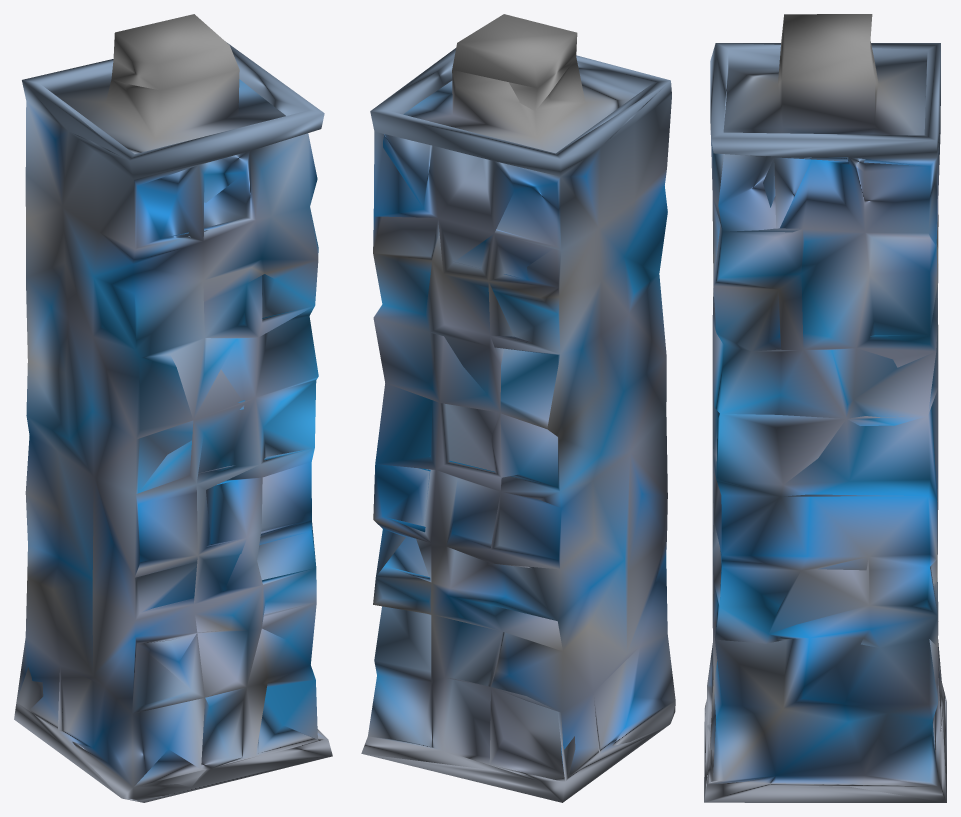
File: gen3d-glass-office-tower-lod1.glb
3 renders of one model, left to right at view 1: azimuth 30°, elevation 25°; view 2: azimuth 150°, elevation 25°; view 3: azimuth 270°, elevation 25°, orthographic. The views are drawn at different scales.
Parts seen in each view (by area): view 1: part_0; view 2: part_0; view 3: part_0.
Boxes of the visible parts, left/top/right/bottom form: part_0: left=14, top=14, right=332, bottom=802; part_0: left=361, top=14, right=675, bottom=802; part_0: left=704, top=14, right=946, bottom=802.
Bounding box in the file's own units: 0.3015 × 0.9992 × 0.3047.
